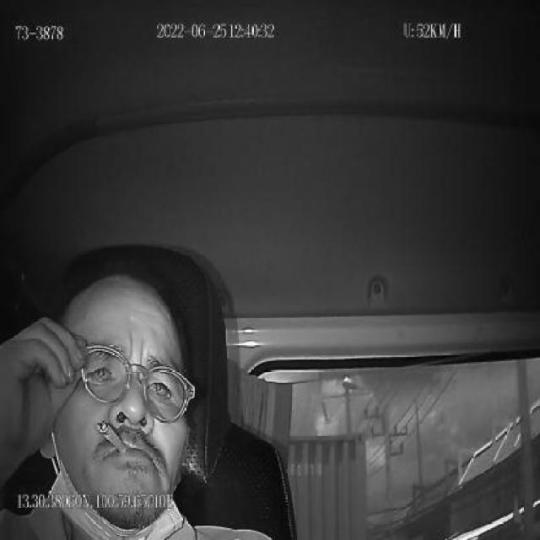smoking: (94, 418, 128, 450)
